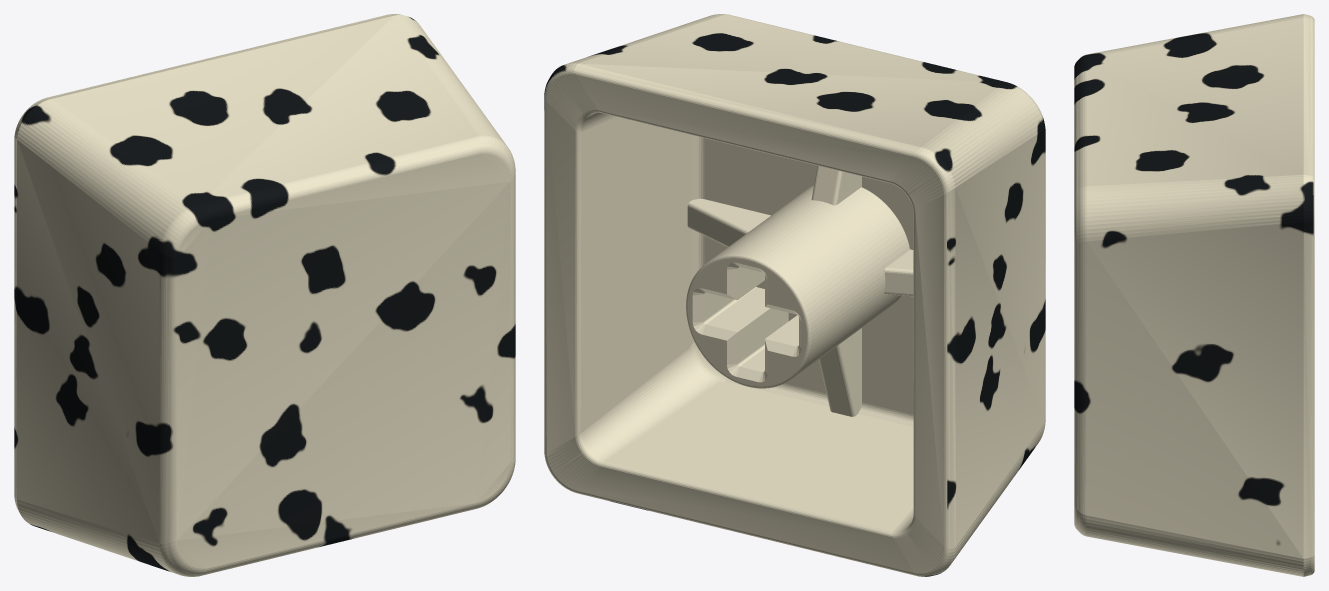
File: 00_BASE_FIT_TEST.obj
3 views of the same model, side by side, from view 1: azimuth 30°, elevation 25°; view 2: azimuth 150°, elevation 25°; view 3: azimuth 270°, elevation 25° (orthographic). The views are drawn at different scales.
Parts seen in each view (by area): view 1: Color_copy_|_ARCH_|_hollow_1u_shell; view 2: Color_copy_|_ARCH_|_hollow_1u_shell; view 3: Color_copy_|_ARCH_|_hollow_1u_shell.
Boxes of the visible parts, box(x1,y1,x2,y2) form: Color_copy_|_ARCH_|_hollow_1u_shell: box(14, 14, 515, 576); Color_copy_|_ARCH_|_hollow_1u_shell: box(544, 14, 1045, 576); Color_copy_|_ARCH_|_hollow_1u_shell: box(1074, 14, 1314, 576).
Bounding box in the file's own units: 18 × 18 × 9.8.
1 material, 1 textured.
